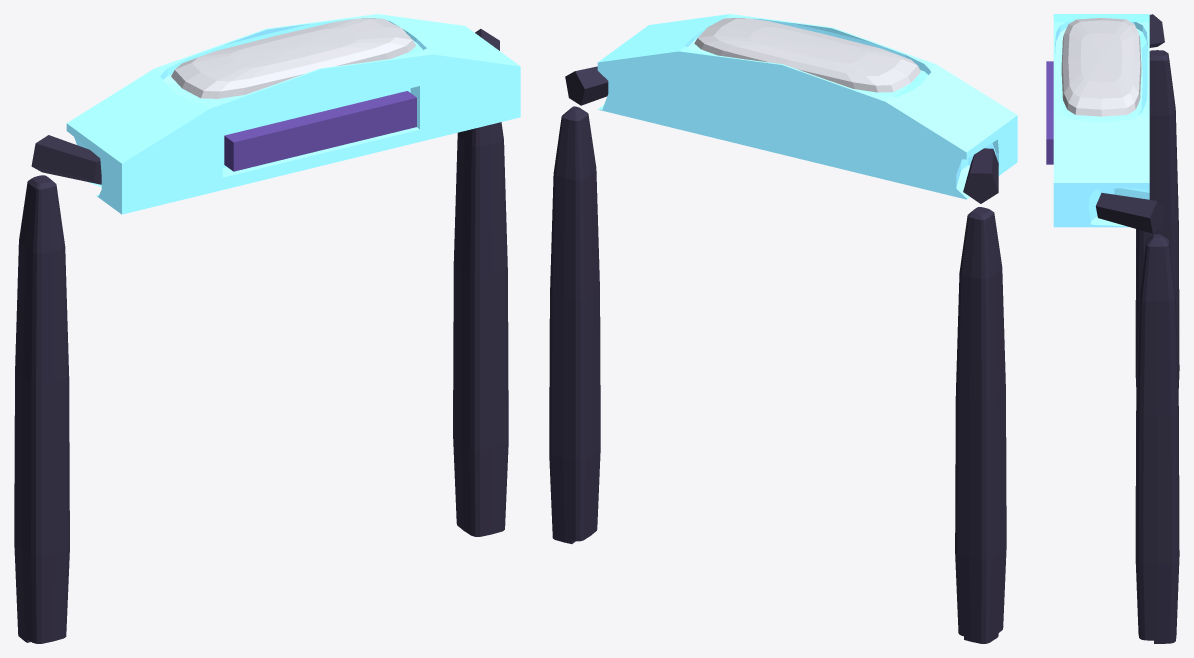
The model's file is h02_lintel_mid.fbx.
3 renders of one model, left to right at view 1: azimuth 30°, elevation 25°; view 2: azimuth 150°, elevation 25°; view 3: azimuth 270°, elevation 25°, orthographic. The views are drawn at different scales.
Parts seen in each view (by area): view 1: h02_lintel_mid__Basalt, h02_lintel_mid__Ice, h02_lintel_mid__Snow, h02_lintel_mid__Canvas; view 2: h02_lintel_mid__Basalt, h02_lintel_mid__Ice, h02_lintel_mid__Snow; view 3: h02_lintel_mid__Basalt, h02_lintel_mid__Ice, h02_lintel_mid__Snow, h02_lintel_mid__Canvas.
Boxes of the visible parts, <box> form: h02_lintel_mid__Basalt: <box>14,29,508,643</box>; h02_lintel_mid__Ice: <box>66,14,520,214</box>; h02_lintel_mid__Snow: <box>171,18,416,98</box>; h02_lintel_mid__Canvas: <box>224,91,416,171</box>; h02_lintel_mid__Basalt: <box>549,66,1006,643</box>; h02_lintel_mid__Ice: <box>597,14,1017,199</box>; h02_lintel_mid__Snow: <box>694,18,920,92</box>; h02_lintel_mid__Basalt: <box>1095,14,1179,643</box>; h02_lintel_mid__Ice: <box>1053,14,1149,227</box>; h02_lintel_mid__Snow: <box>1061,18,1141,116</box>; h02_lintel_mid__Canvas: <box>1046,61,1053,164</box>.
Size of the model in its own units: 6 by 6.71 by 1.66.
